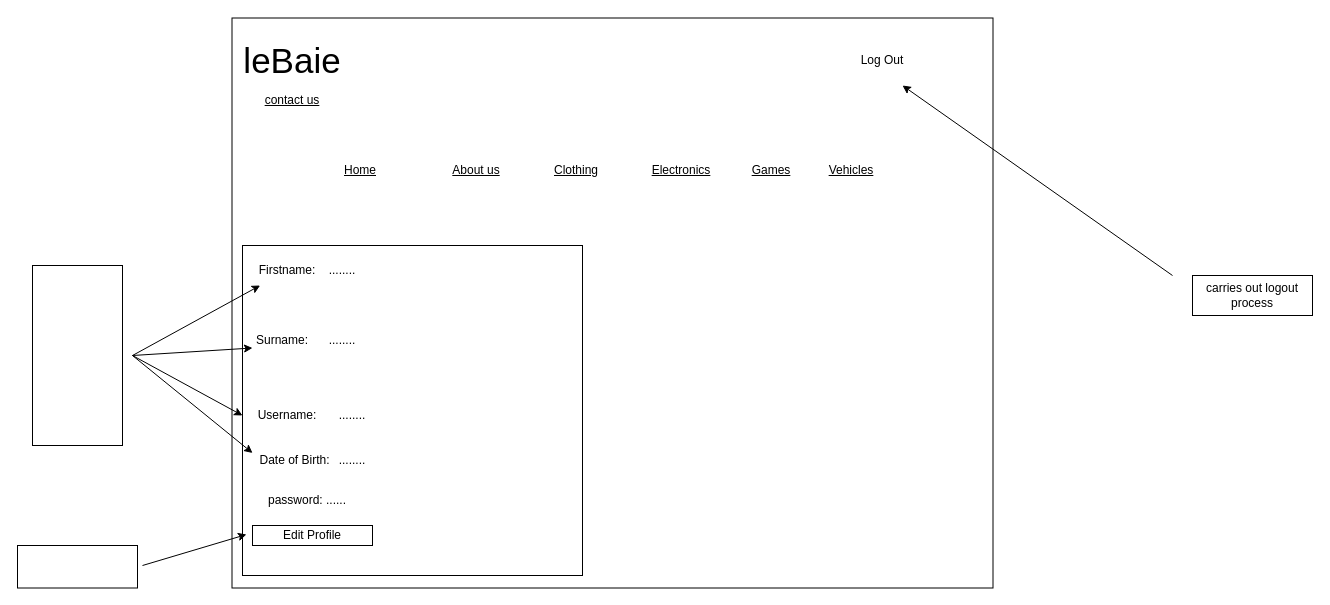
Some shapes in this 1330 by 605 pixel diagram are drawn without their labels. Here are the shapes that lost their labels. From the top down, the box of each, then its label:
(32, 264, 122, 446): contains value stored from registration page, using session variables
(16, 544, 138, 588): internal hyperlink to same page containing form
